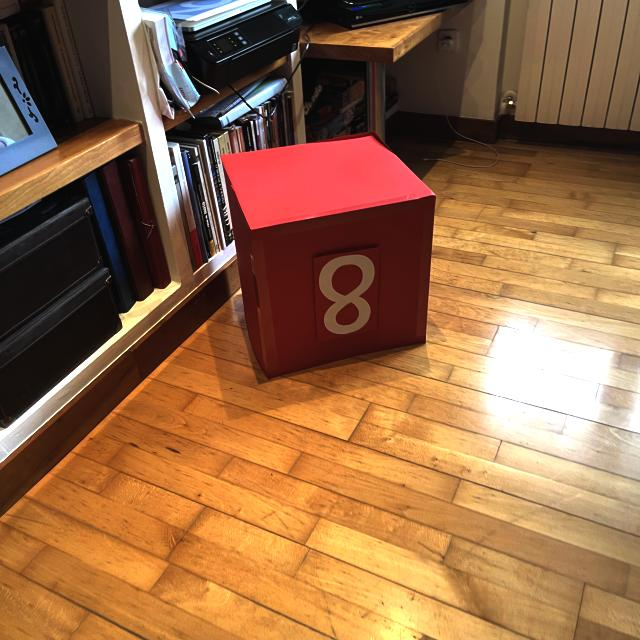box: (217, 130, 438, 380)
